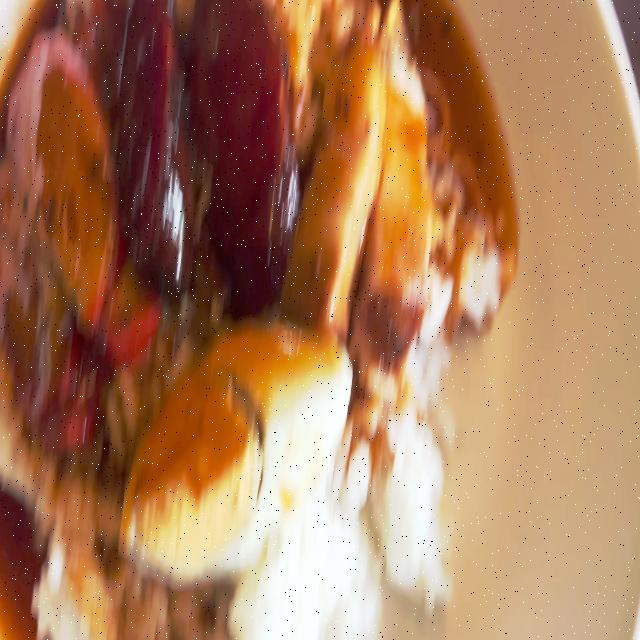boiled_egg: (120, 324, 338, 586)
chainese_sausage: (121, 4, 302, 294), (200, 0, 293, 290), (120, 0, 193, 283)
crispy_pork: (300, 18, 426, 326), (292, 27, 382, 314), (369, 23, 424, 326)
red_pork: (0, 0, 118, 409)
red_pork_and_crispy_pork: (0, 0, 495, 640)
rice: (9, 434, 108, 630), (251, 510, 379, 638), (369, 404, 456, 583)
